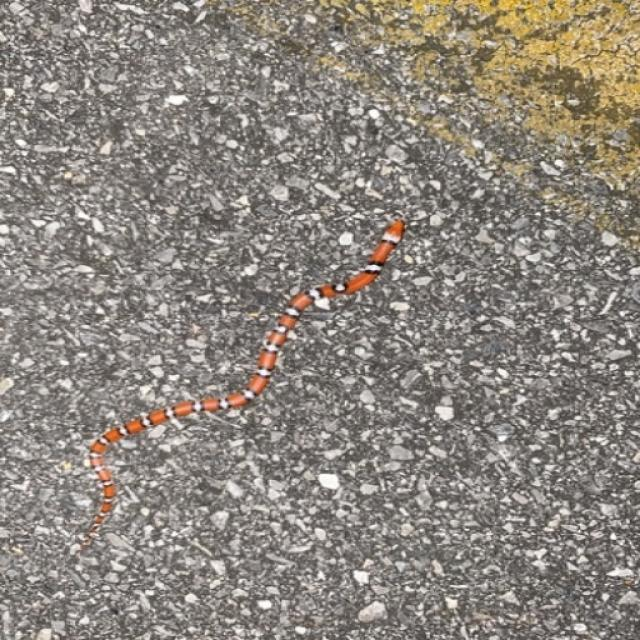snake: (66, 202, 429, 528)
